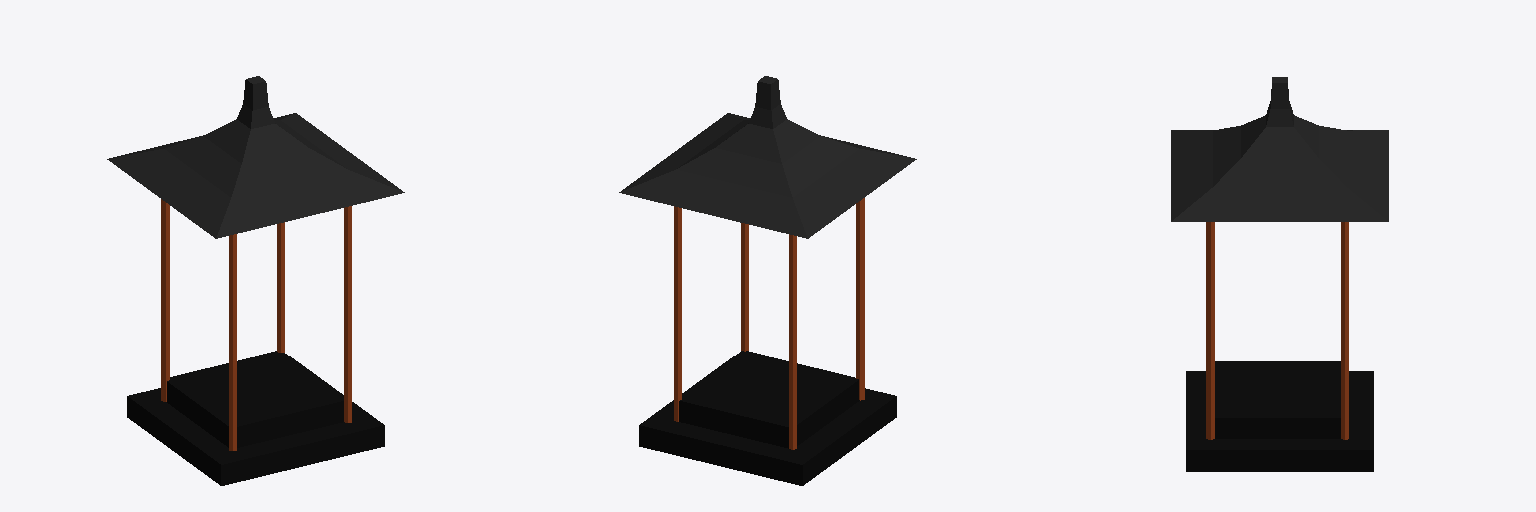
File: Podium_A.obj
The picture shows the model from 3 angles: view 1: azimuth 30°, elevation 25°; view 2: azimuth 150°, elevation 25°; view 3: azimuth 270°, elevation 25°; orthographic projection.
Parts seen in each view (by area): view 1: Podium_A; view 2: Podium_A; view 3: Podium_A.
Part boxes in pixels (bbox=[...]): Podium_A: bbox=[107, 76, 404, 485]; Podium_A: bbox=[619, 76, 916, 485]; Podium_A: bbox=[1171, 77, 1388, 471].
Bounding box in the file's own units: 10.22 × 18.15 × 10.22.